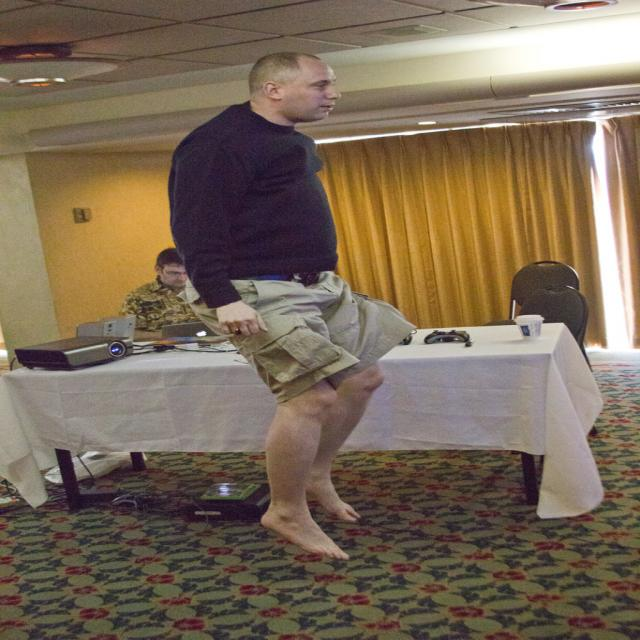chair: (514, 283, 586, 347), (510, 260, 581, 309)
desk: (4, 323, 565, 503)
person: (168, 52, 410, 559), (119, 248, 201, 330)
